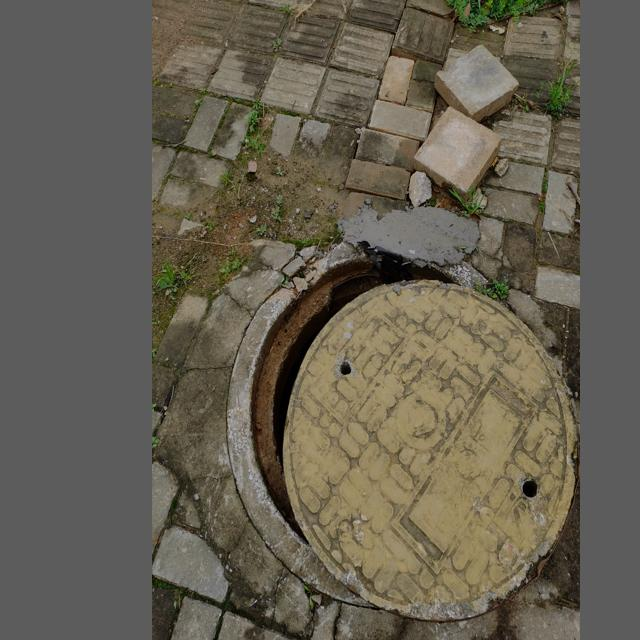uncovered: (232, 254, 532, 583)
